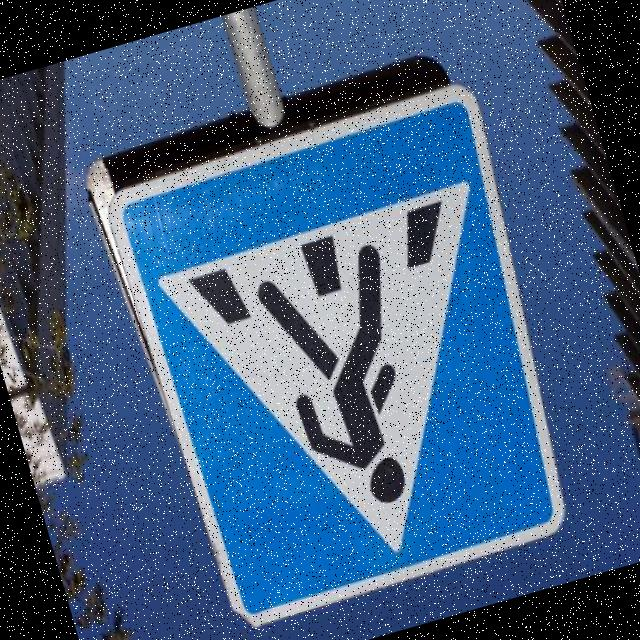crosswalk: (94, 71, 607, 640)
